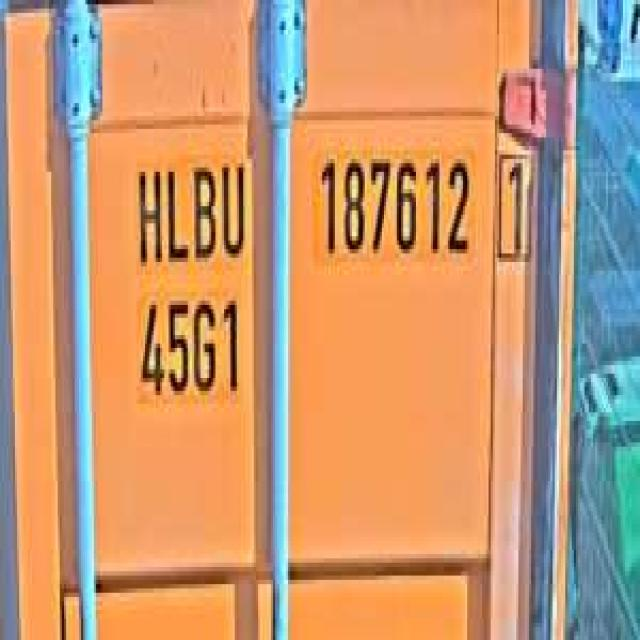dv: (490, 133, 538, 275)
owner: (132, 150, 250, 271)
serial: (312, 142, 474, 270)
size: (132, 288, 245, 408)
